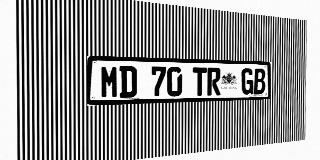0: (167, 67, 182, 97)
7: (150, 66, 166, 97)
B: (254, 68, 265, 94)
D: (119, 66, 137, 98)
G: (241, 68, 253, 95)
M: (100, 65, 119, 98)
R: (207, 67, 221, 96)
T: (193, 67, 207, 96)
